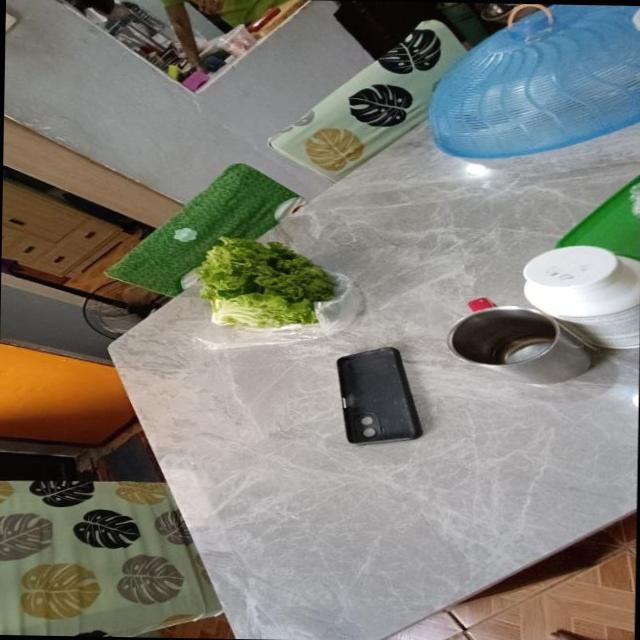Lettuce-Ready-to-Harvest: (210, 293, 316, 327)
